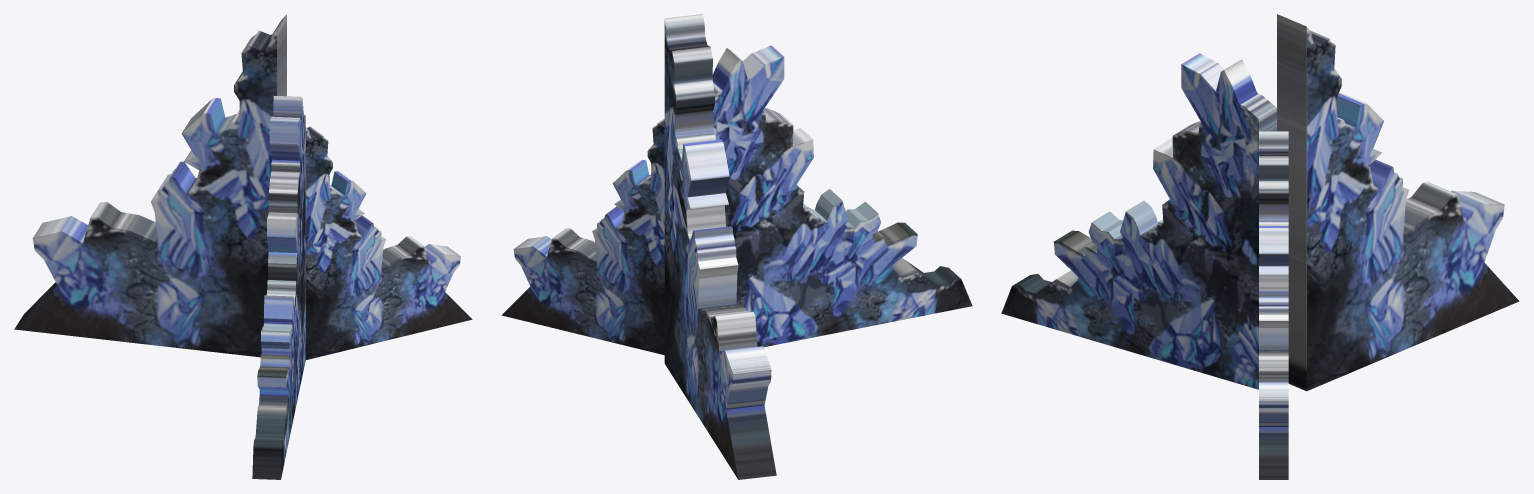
Rendered from SM_LevelCrystal_004.FBX.
The picture shows the model from 3 angles, left to right: view 1: azimuth 30°, elevation 25°; view 2: azimuth 150°, elevation 25°; view 3: azimuth 270°, elevation 25°; orthographic projection. The views are drawn at different scales.
Visible parts, largest first — view 1: SM_LevelCrystal_004; view 2: SM_LevelCrystal_004; view 3: SM_LevelCrystal_004.
Boxes of the visible parts, x1,y1,x2,y2 form: SM_LevelCrystal_004: (14, 14, 472, 479); SM_LevelCrystal_004: (501, 14, 972, 479); SM_LevelCrystal_004: (1001, 14, 1519, 479).
Bounding box in the file's own units: 2813 × 2504 × 3224.
1 material, 1 textured.
